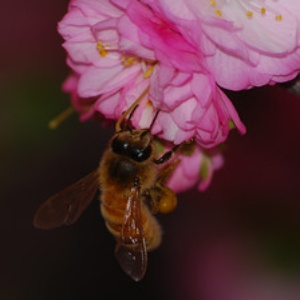bee: (86, 124, 178, 285)
